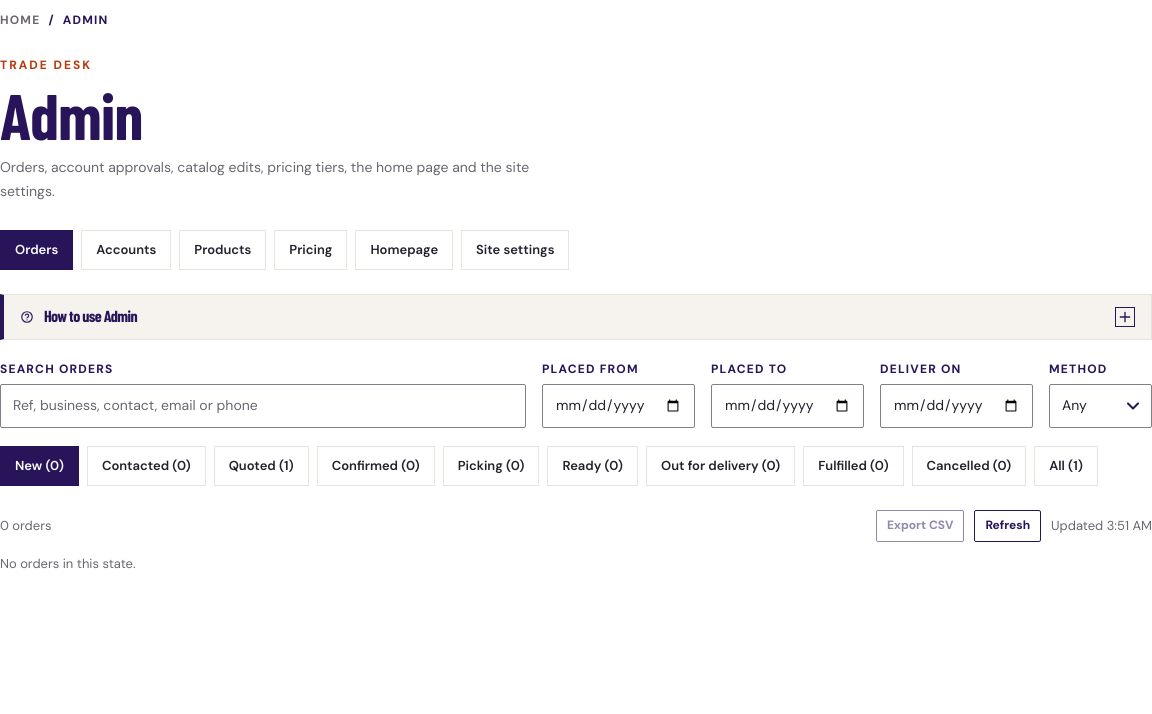
Test case: Admin orders with the quote workflow › says in the dialog why a link was refused, and keeps it open (AW-024)
This screenshot has width=1152, height=714.
Click the button "All (1)" at x=1066, y=466, box [1034,446,1098,486]
(page scrolled)
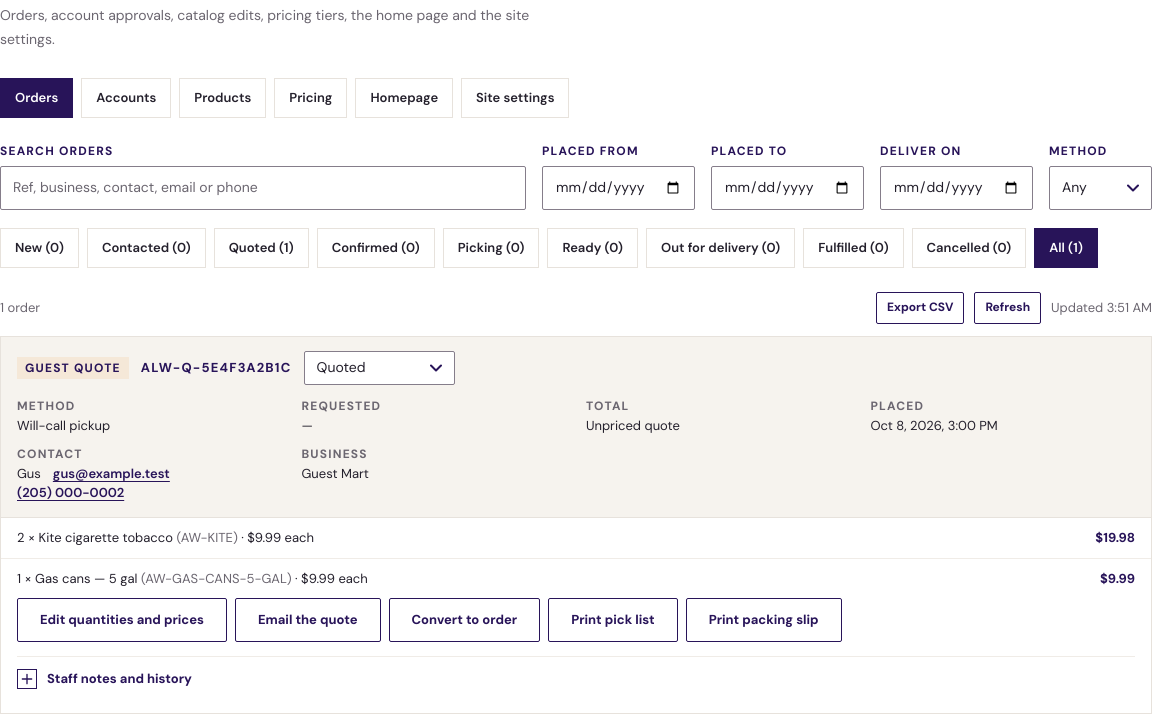
Click the button "Convert to order" at x=464, y=620, box [388,598,540,642]
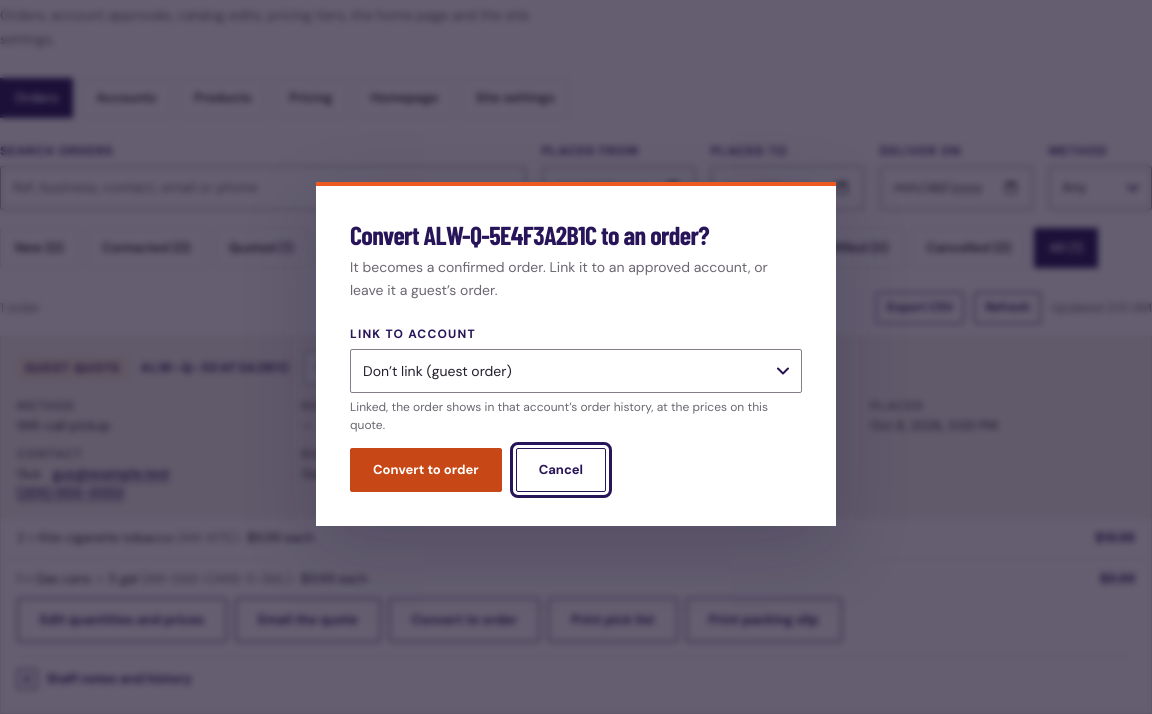
Select "Alpha Mart · al@example.test" in the dropdown labelled "Link to account" at x=576, y=371, box [350,349,802,393]
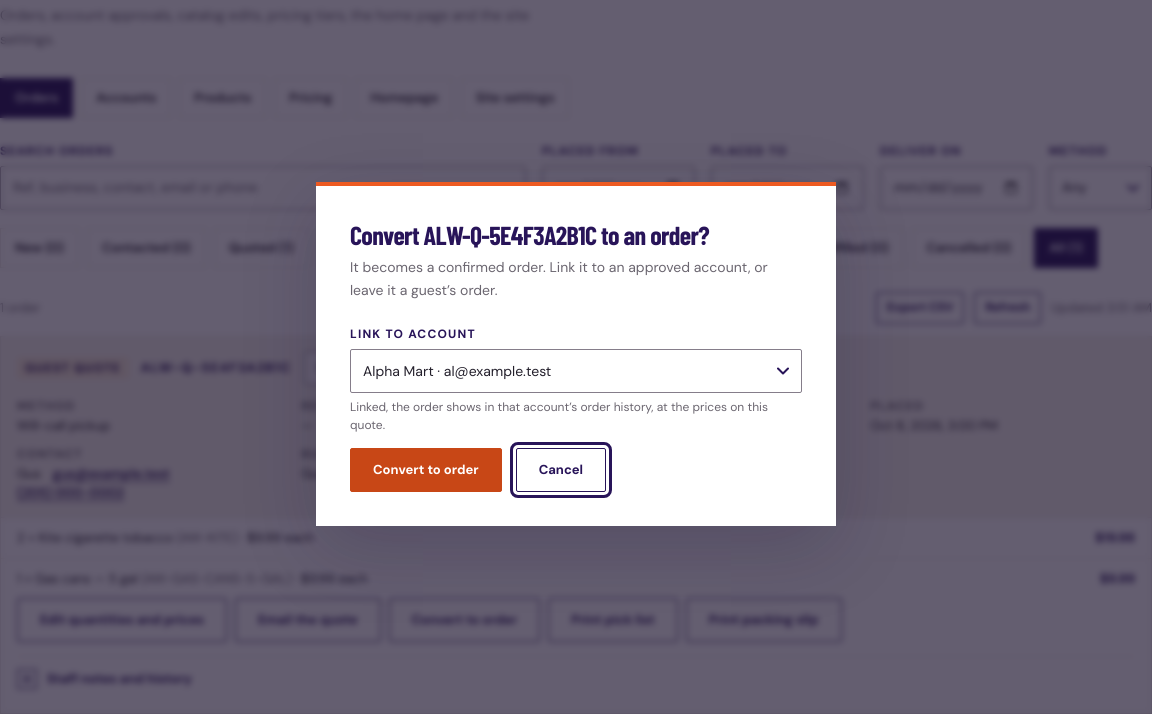
Click the button "Convert to order" at x=426, y=470, box [350,448,502,492]
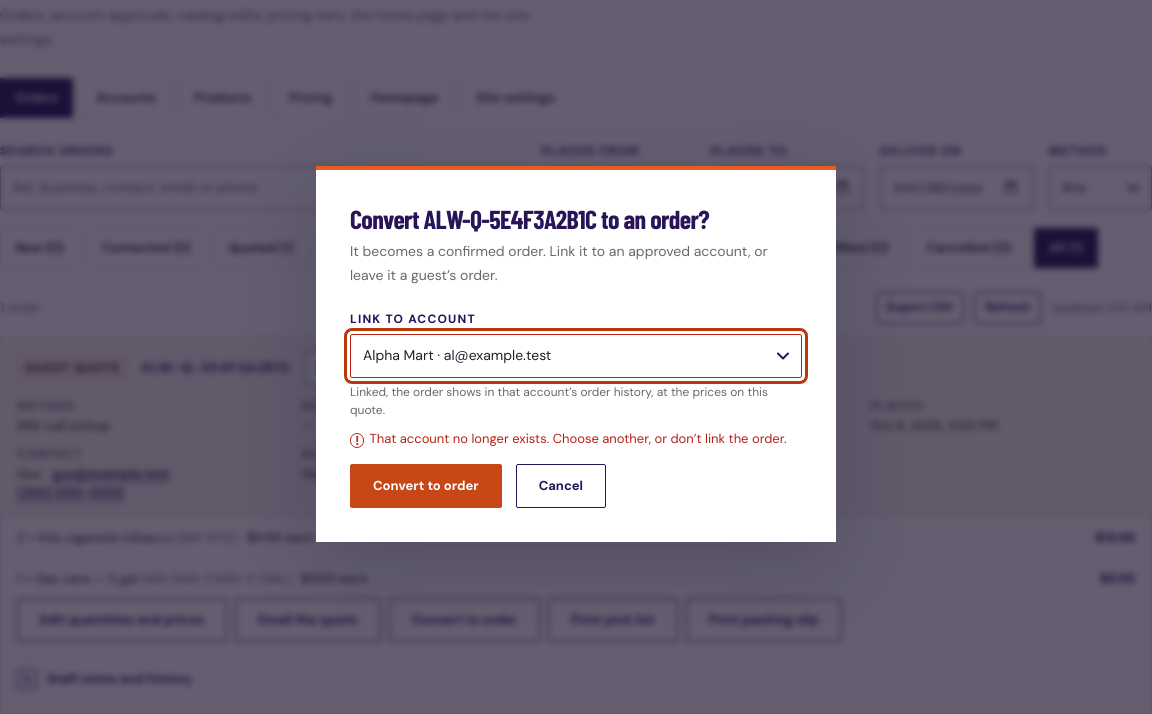
Expected: the message reads "That account no longer exists. Choose another, or don’t link the order.", [370,430,787,447]
